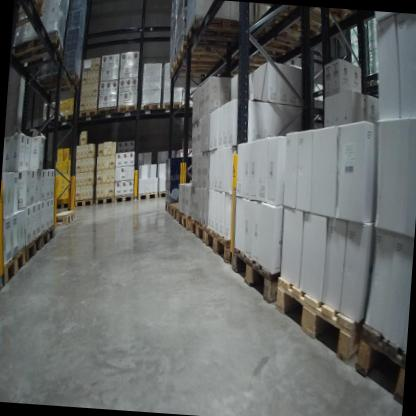pallet: (269, 270, 368, 368), (354, 321, 408, 401), (229, 240, 287, 311), (265, 6, 362, 41), (249, 16, 315, 64), (10, 22, 69, 74), (182, 13, 248, 54), (27, 65, 83, 106), (202, 221, 241, 273), (175, 41, 242, 68), (168, 58, 226, 85), (1, 249, 29, 298), (13, 0, 47, 22), (24, 230, 43, 265), (189, 215, 210, 246), (51, 209, 77, 234), (170, 197, 193, 225), (38, 223, 57, 253), (97, 102, 120, 118), (71, 197, 94, 213), (0, 261, 9, 301), (178, 209, 194, 231), (116, 100, 138, 116), (136, 189, 159, 204), (74, 105, 98, 119), (94, 195, 115, 211), (140, 101, 161, 115), (58, 107, 76, 123), (162, 98, 182, 111), (115, 193, 135, 206), (52, 198, 70, 211), (163, 203, 171, 216), (159, 188, 167, 201)
